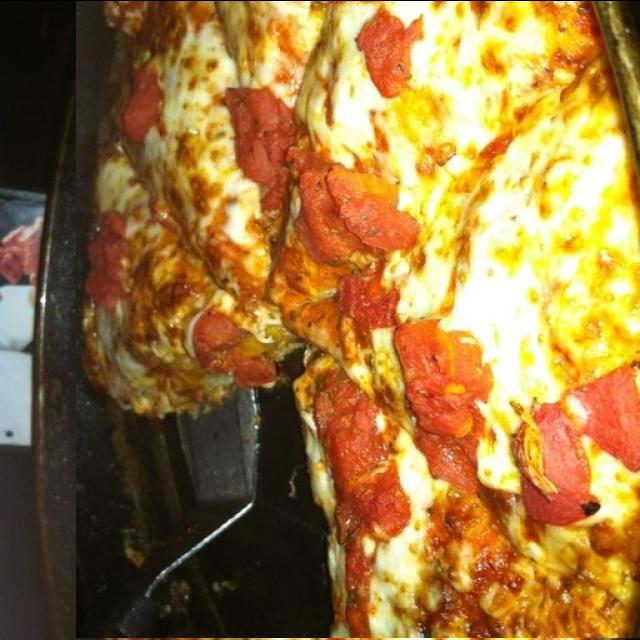pizza: (76, 0, 640, 637)
